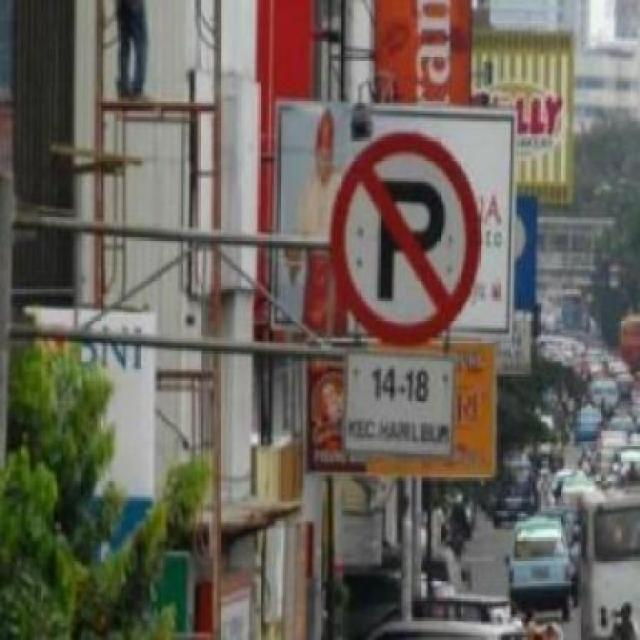no parking: (317, 118, 483, 353)
